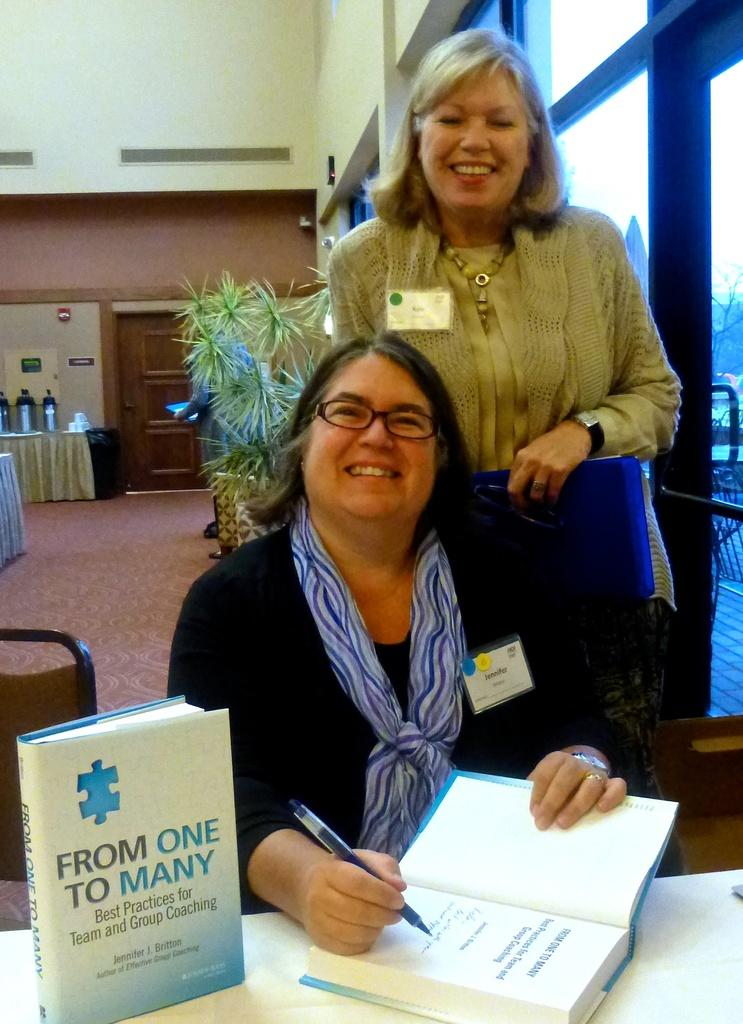Sem Máscara: (293, 357, 438, 528), (410, 44, 534, 211)
